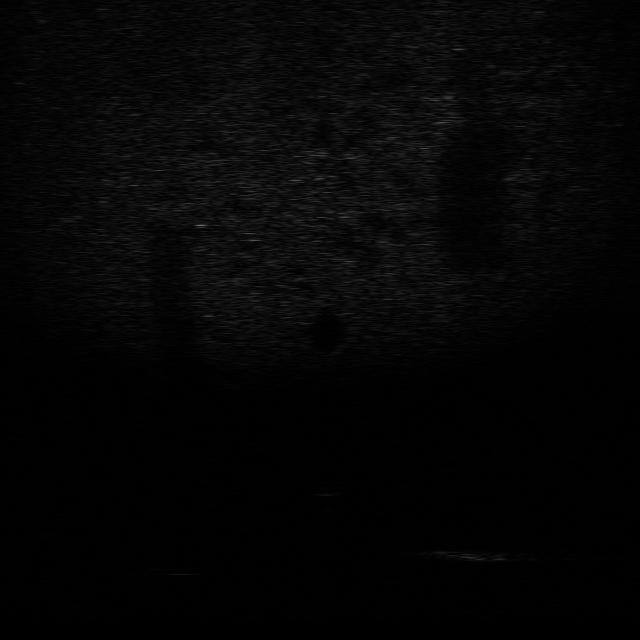ball: (305, 474, 350, 500)
metal bucket: (425, 545, 515, 566)
tyre: (142, 552, 202, 583)
